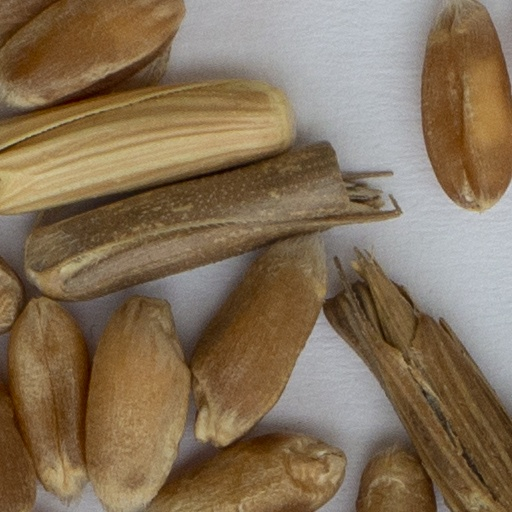Peel-poly: (21, 138, 406, 304), (320, 241, 511, 511), (0, 75, 295, 216)
Wheat-grain-poly: (416, 0, 511, 214), (0, 367, 34, 511)
